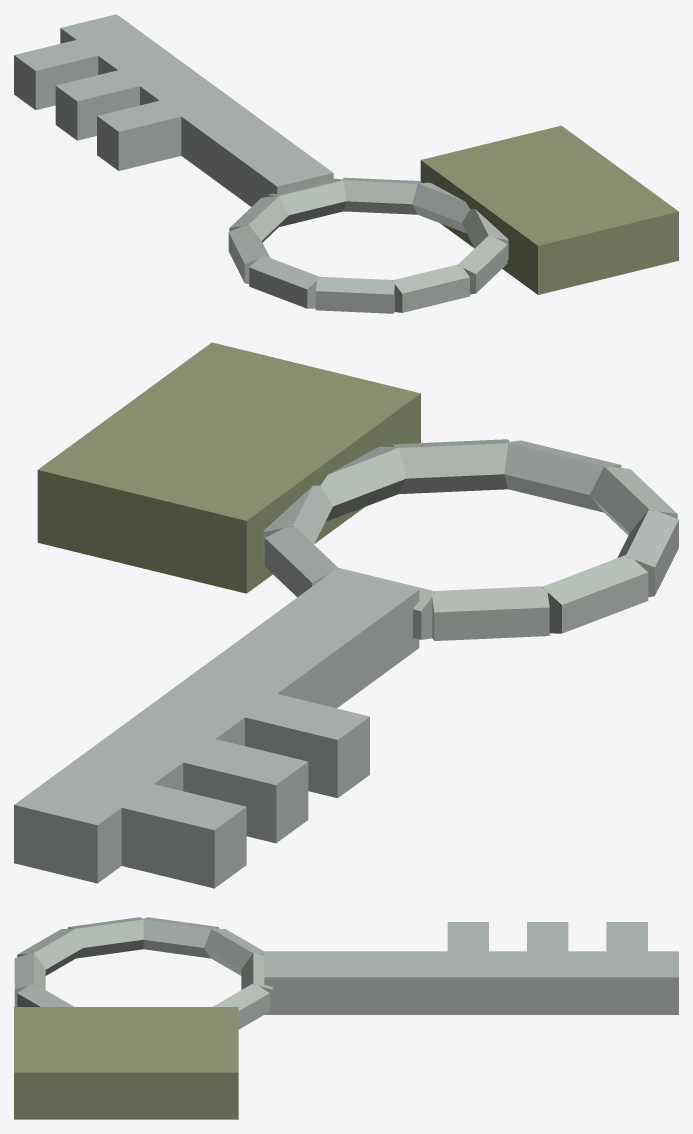
Rendered from MilitaryBoatKey.fbx.
3 renders of one model, top to bottom at view 1: azimuth 30°, elevation 25°; view 2: azimuth 150°, elevation 25°; view 3: azimuth 270°, elevation 25°, orthographic. The views are drawn at different scales.
Parts seen in each view (by area): view 1: Tag, KeyShaft, KeyTooth2, KeyTooth1, KeyTooth0, KeyRing1, KeyRing2, KeyRing6, KeyRing0, KeyRing7, KeyRing5, KeyRing3 (+3 smaller); view 2: Tag, KeyShaft, KeyTooth0, KeyTooth2, KeyTooth1, KeyRing8, KeyRing3, KeyRing9, KeyRing2, KeyRing4, KeyRing6, KeyRing1 (+3 smaller); view 3: KeyShaft, Tag, KeyRing0, KeyRing9, KeyRing1, KeyRing8, KeyTooth1, KeyRing6, KeyTooth0, KeyTooth2, KeyRing2, KeyRing3 (+1 smaller).
Boxes of the visible parts, x1=… form: Tag: x1=420, y1=125, x2=678, y2=294; KeyShaft: x1=60, y1=14, x2=333, y2=206; KeyTooth2: x1=97, y1=100, x2=181, y2=170; KeyTooth1: x1=55, y1=65, x2=163, y2=140; KeyTooth0: x1=14, y1=34, x2=117, y2=109; KeyRing1: x1=315, y1=276, x2=395, y2=313; KeyRing2: x1=392, y1=264, x2=469, y2=312; KeyRing6: x1=341, y1=177, x2=421, y2=214; KeyRing0: x1=249, y1=255, x2=320, y2=308; KeyRing7: x1=267, y1=178, x2=346, y2=226; KeyRing5: x1=412, y1=182, x2=469, y2=232; KeyRing3: x1=457, y1=235, x2=507, y2=294; Tag: x1=37, y1=342, x2=420, y2=593; KeyShaft: x1=14, y1=569, x2=419, y2=883; KeyTooth0: x1=113, y1=775, x2=246, y2=888; KeyTooth2: x1=208, y1=685, x2=369, y2=798; KeyTooth1: x1=149, y1=730, x2=308, y2=843; KeyRing8: x1=431, y1=586, x2=549, y2=640; KeyRing3: x1=392, y1=439, x2=510, y2=494; KeyRing9: x1=542, y1=554, x2=648, y2=633; KeyRing2: x1=504, y1=440, x2=621, y2=512; KeyRing4: x1=320, y1=446, x2=406, y2=521; KeyRing6: x1=264, y1=524, x2=338, y2=597; KeyRing1: x1=590, y1=465, x2=677, y2=535; KeyShaft: x1=264, y1=951, x2=678, y2=1014; Tag: x1=14, y1=1007, x2=238, y2=1119; KeyRing0: x1=68, y1=917, x2=144, y2=958; KeyRing9: x1=142, y1=917, x2=218, y2=958; KeyRing1: x1=17, y1=928, x2=82, y2=975; KeyRing8: x1=204, y1=928, x2=264, y2=975; KeyTooth1: x1=527, y1=922, x2=568, y2=962; KeyRing6: x1=213, y1=983, x2=269, y2=1029; KeyTooth0: x1=606, y1=922, x2=647, y2=951; KeyTooth2: x1=447, y1=922, x2=488, y2=951; KeyRing2: x1=14, y1=952, x2=45, y2=1006; KeyRing3: x1=17, y1=983, x2=73, y2=1006.
Bounding box in the file's own units: 0.1163 × 0.015 × 0.1925.
